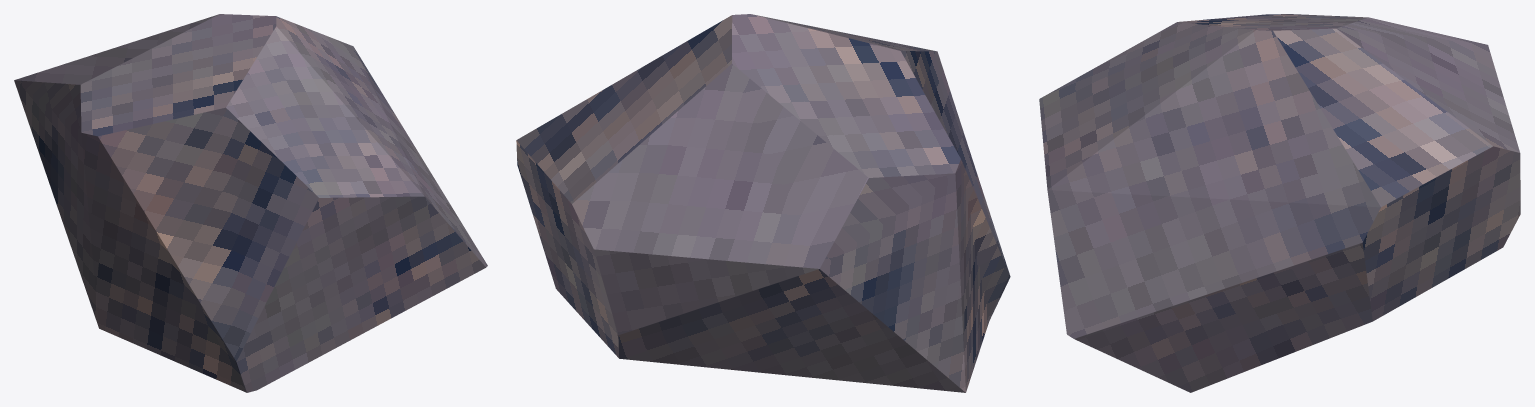
File: rock2.glb
3 renders of one model, left to right at view 1: azimuth 30°, elevation 25°; view 2: azimuth 150°, elevation 25°; view 3: azimuth 270°, elevation 25°, orthographic. The views are drawn at different scales.
Parts seen in each view (by area): view 1: big rock.002; view 2: big rock.002; view 3: big rock.002.
Part boxes in pixels (x1,y1,x2,y2): big rock.002: (14,14,487,392); big rock.002: (516,14,1010,392); big rock.002: (1039,14,1520,392).
Bounding box in the file's own units: 0.4268 × 0.3602 × 0.4953.
Materials: 1 (1 with a texture image).
